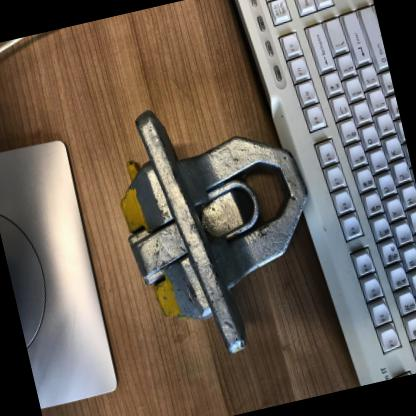Twistlock: (97, 72, 343, 376)
